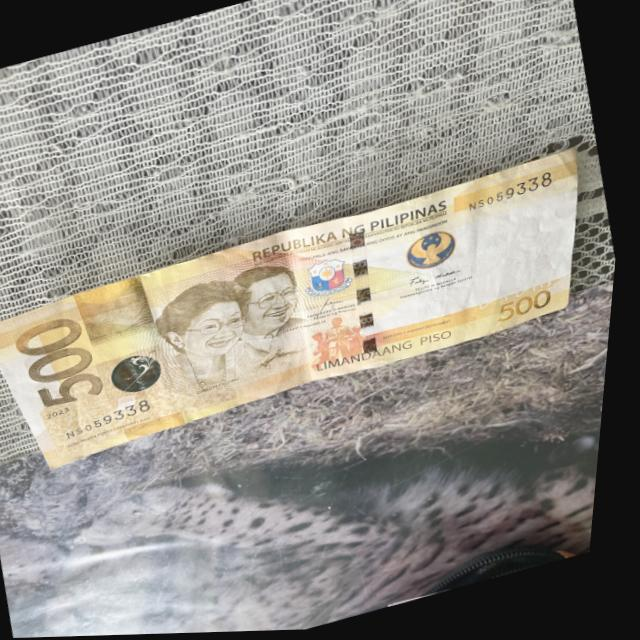concealed_value: (75, 273, 168, 351)
optically_variable_device: (100, 344, 184, 407)
security_thread: (337, 223, 401, 371)
see_through_mark: (479, 280, 560, 313)
serial_number: (58, 390, 182, 447), (468, 173, 561, 215)
value: (12, 309, 120, 417)
value_watermark: (532, 245, 562, 279)
